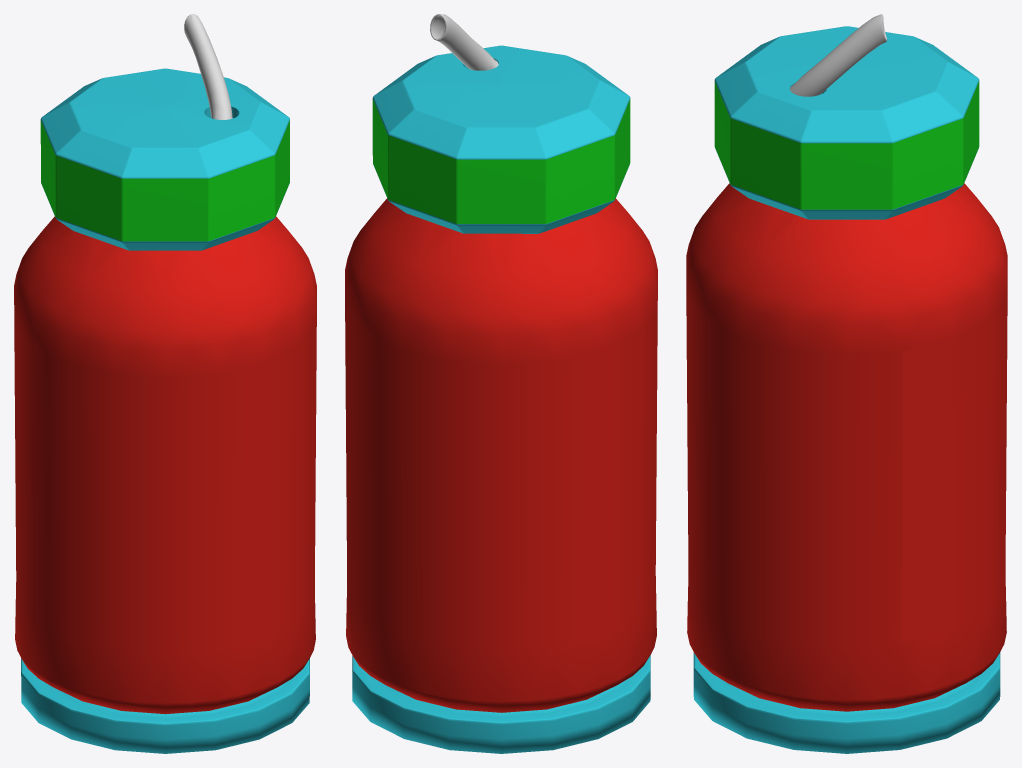
File: TESTOBJECT.fbx
The picture shows the model from 3 angles, left to right: view 1: azimuth 30°, elevation 25°; view 2: azimuth 150°, elevation 25°; view 3: azimuth 270°, elevation 25°; orthographic projection. The views are drawn at different scales.
Visible parts, largest first — view 1: polySurface5, polySurface4, pHelix5; view 2: polySurface5, polySurface4, pHelix5; view 3: polySurface5, polySurface4, pHelix5.
Boxes of the visible parts, <box> form: polySurface5: <box>14,216,316,753</box>; polySurface4: <box>40,68,289,250</box>; pHelix5: <box>184,14,232,119</box>; polySurface5: <box>345,198,657,753</box>; polySurface4: <box>372,45,630,233</box>; pHelix5: <box>430,14,498,70</box>; polySurface5: <box>686,183,1007,753</box>; polySurface4: <box>714,26,979,219</box>; pHelix5: <box>790,14,886,96</box>.
Size of the model in its own units: 2.67 by 6.29 by 2.64.
